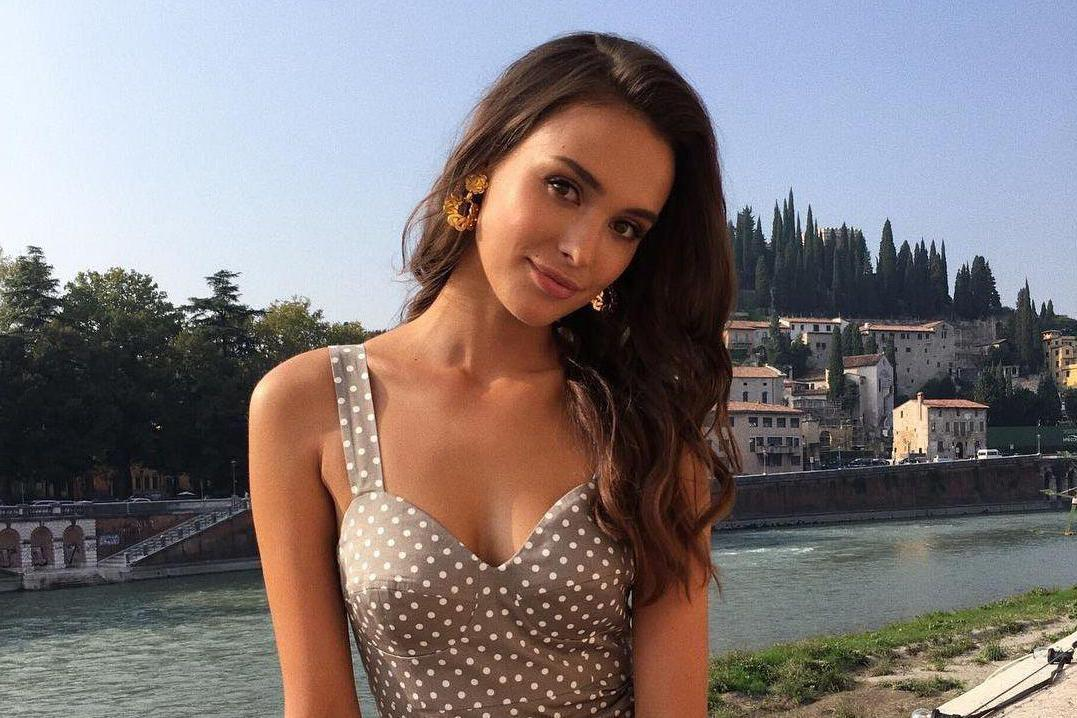Sober: (494, 110, 649, 316)
